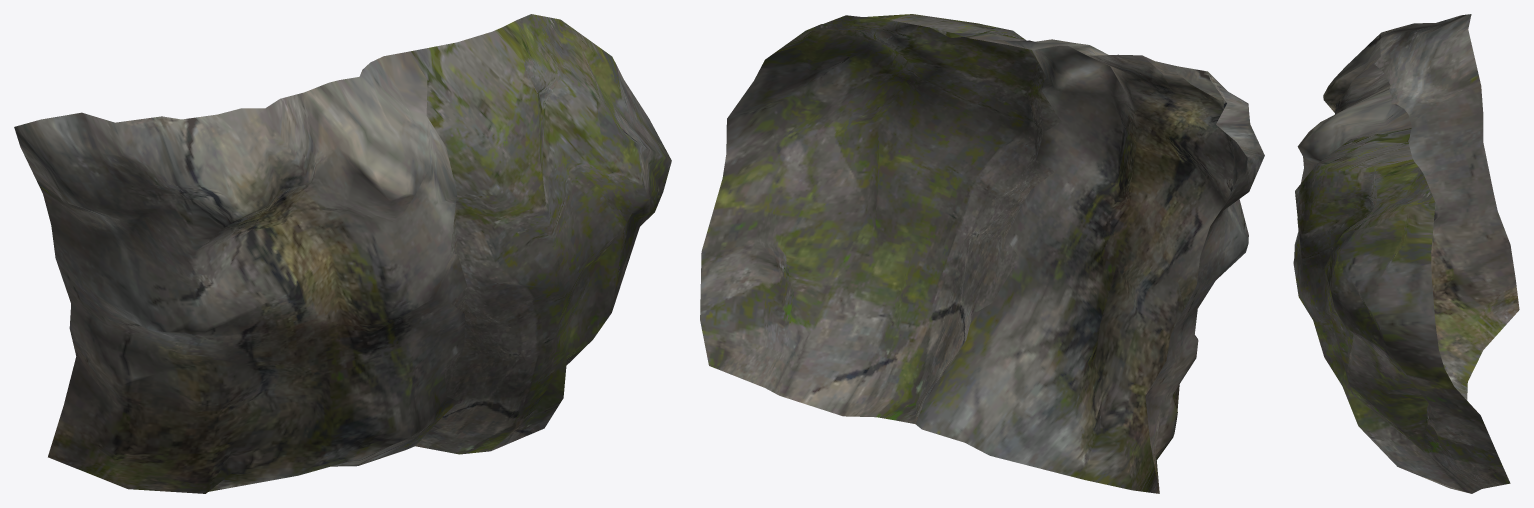
File: Rock15.fbx
The picture shows the model from 3 angles, left to right: view 1: azimuth 30°, elevation 25°; view 2: azimuth 150°, elevation 25°; view 3: azimuth 270°, elevation 25°; orthographic projection. The views are drawn at different scales.
Parts seen in each view (by area): view 1: LV_Campagna_MoleCricketsDen_piece3_SM_KSV; view 2: LV_Campagna_MoleCricketsDen_piece3_SM_KSV; view 3: LV_Campagna_MoleCricketsDen_piece3_SM_KSV.
Boxes of the visible parts, box(x1,y1,x2,y2) form: LV_Campagna_MoleCricketsDen_piece3_SM_KSV: box(14, 14, 671, 493); LV_Campagna_MoleCricketsDen_piece3_SM_KSV: box(700, 14, 1264, 493); LV_Campagna_MoleCricketsDen_piece3_SM_KSV: box(1293, 14, 1519, 493).
Bounding box in the file's own units: 6.27 × 4.34 × 2.74.
Materials: 1 (1 with a texture image).
